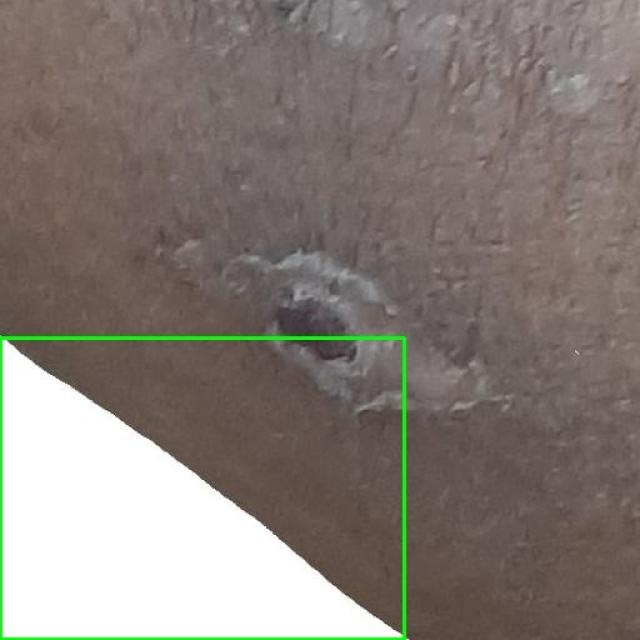Contact Dermatitis: (0, 338, 404, 639)
